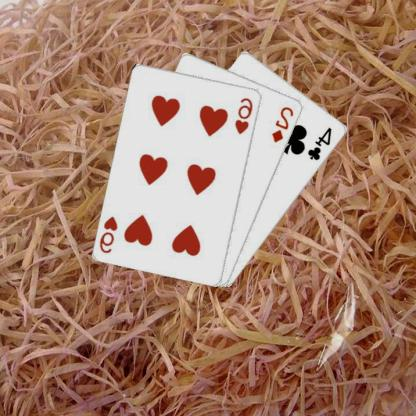2D: (271, 104, 297, 144)
4C: (307, 124, 335, 162)
6H: (99, 213, 121, 255), (234, 95, 256, 135)
